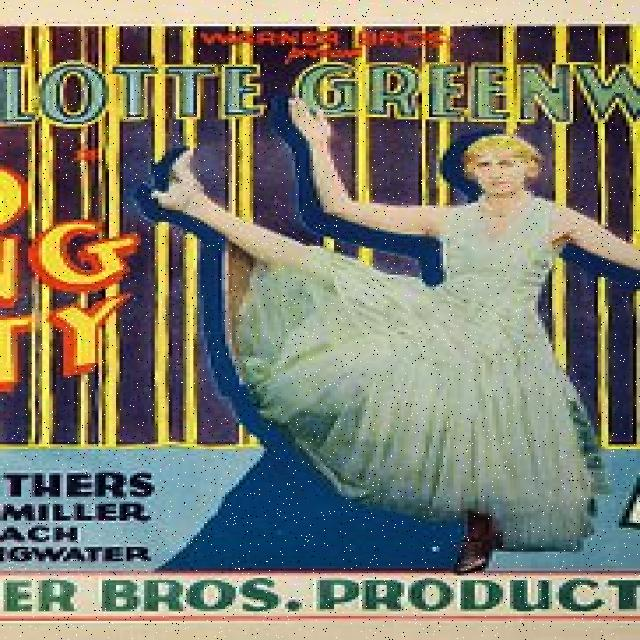movie-judul: (0, 60, 640, 129)
picture: (150, 102, 634, 566)
